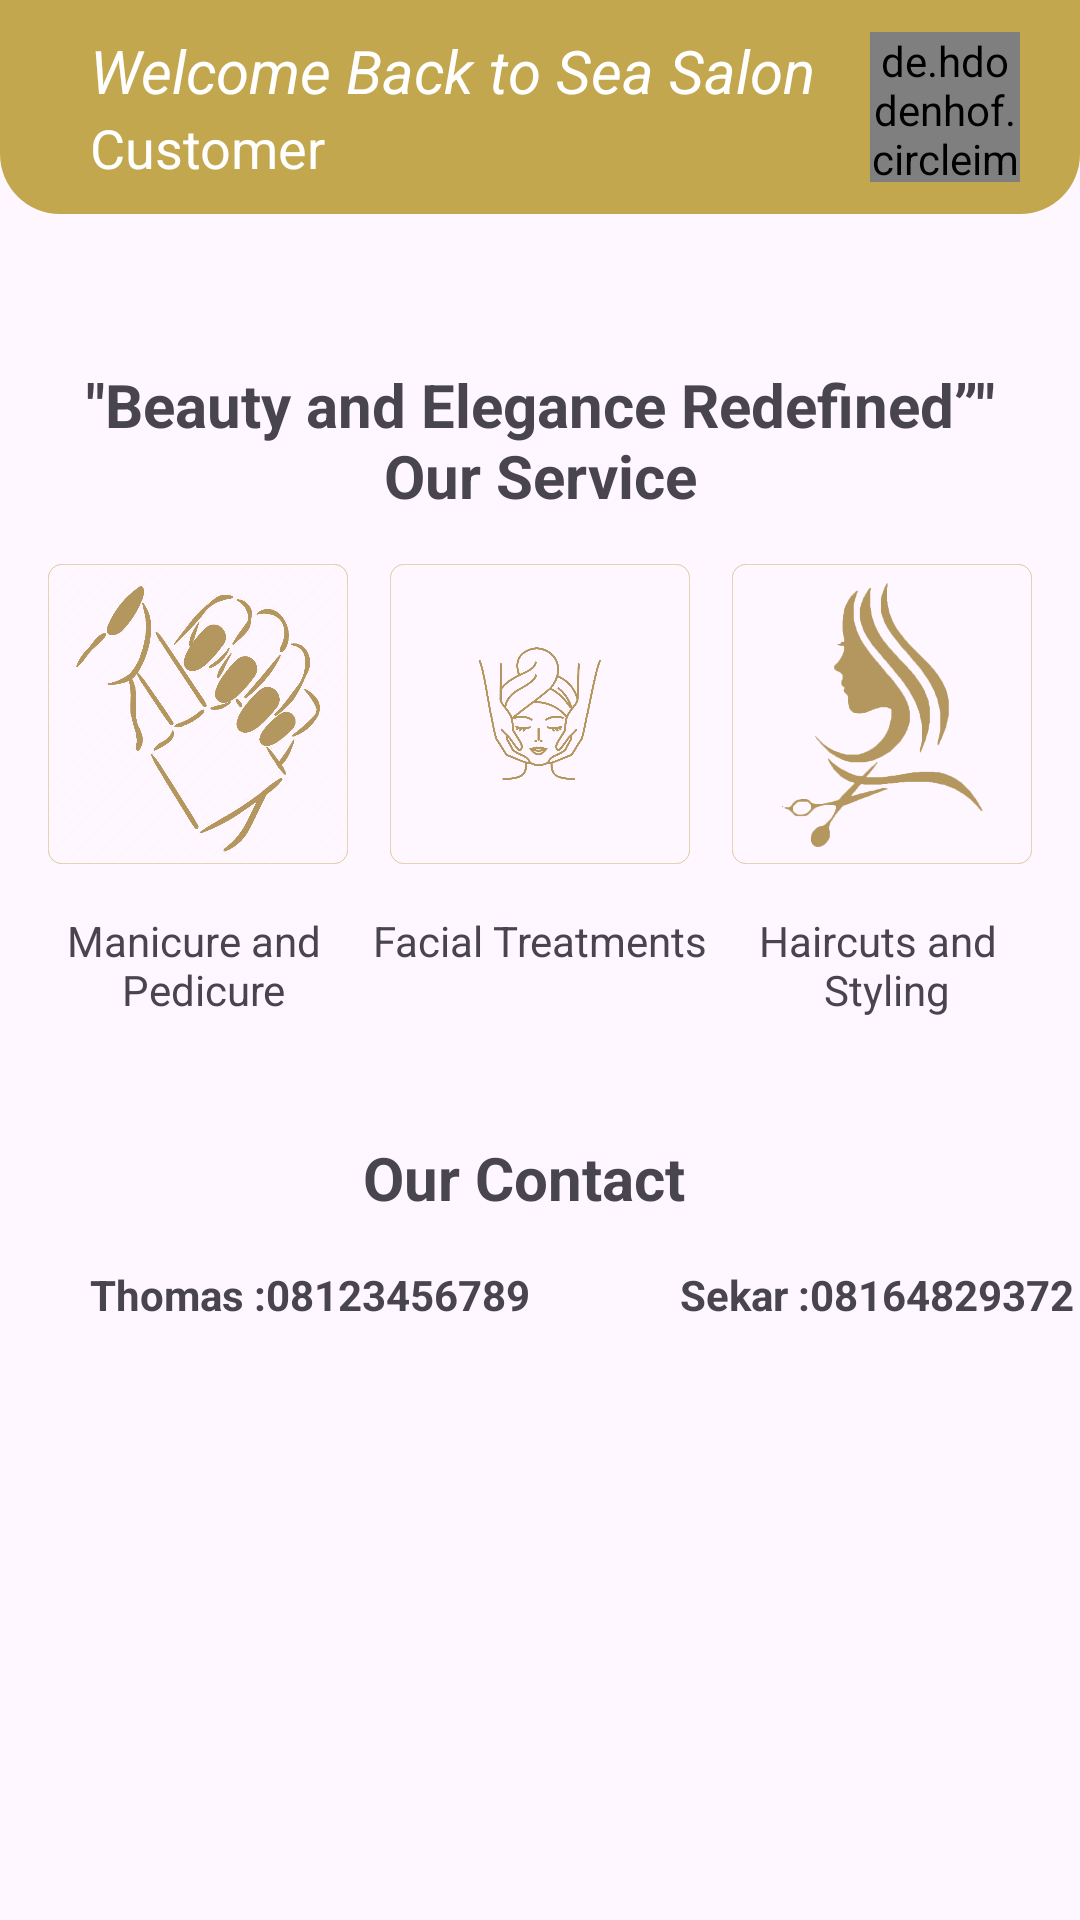

Point at icon controls on the screen. Image size 1080 × 1920, points as (x,y).
face stroke: (540,714)
hair stroke: (882,714)
nail stroke: (198,714)
